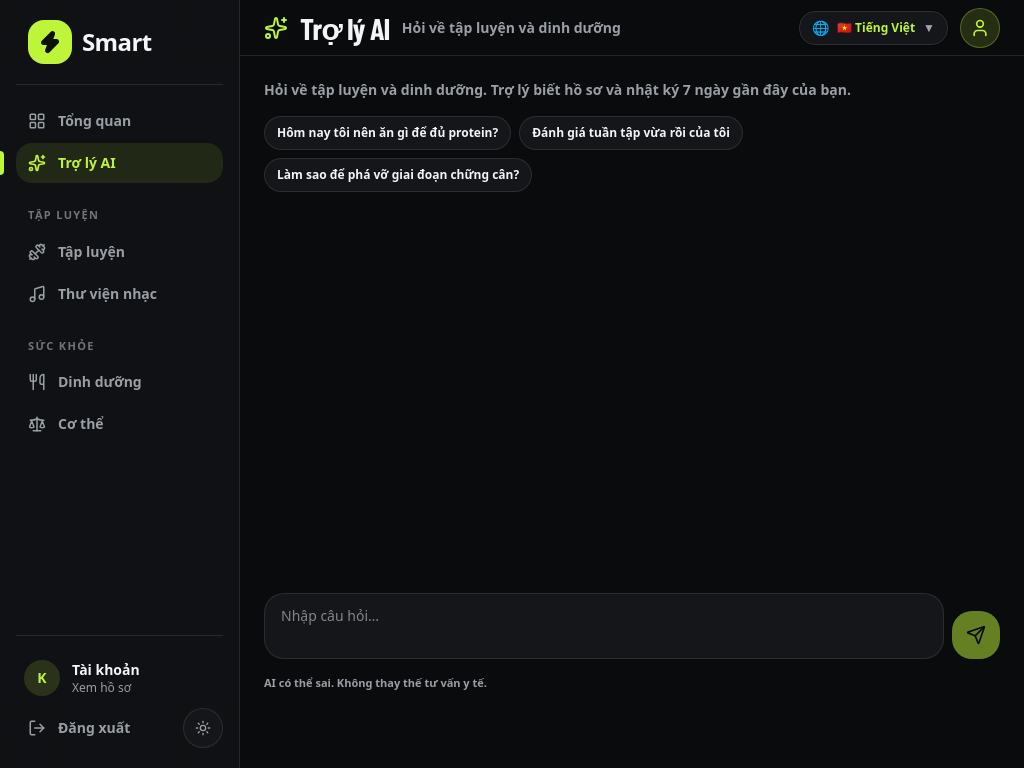
Coach page › sends earlier turns with the next question
The width and height of the screenshot is (1024, 768).
Type "q1" into the text box named "Tin nhắn". click: (604, 626)
box: [264,593,944,659]
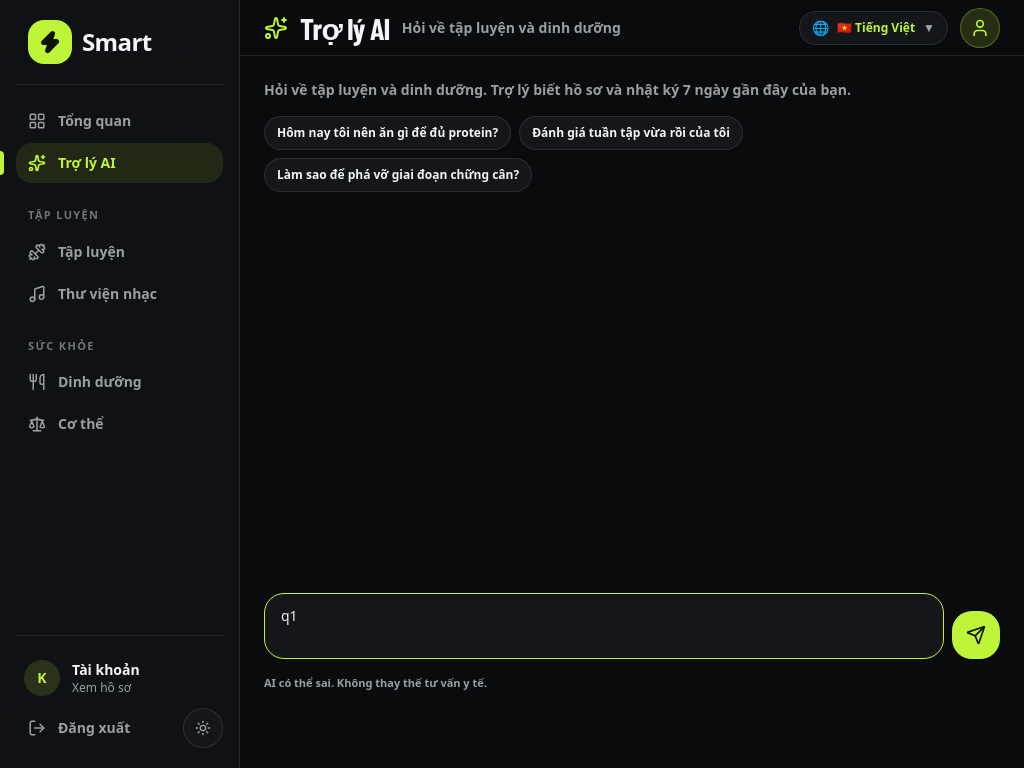
Click the button named "Gửi". click: (976, 635)
box: [952,611,1000,659]
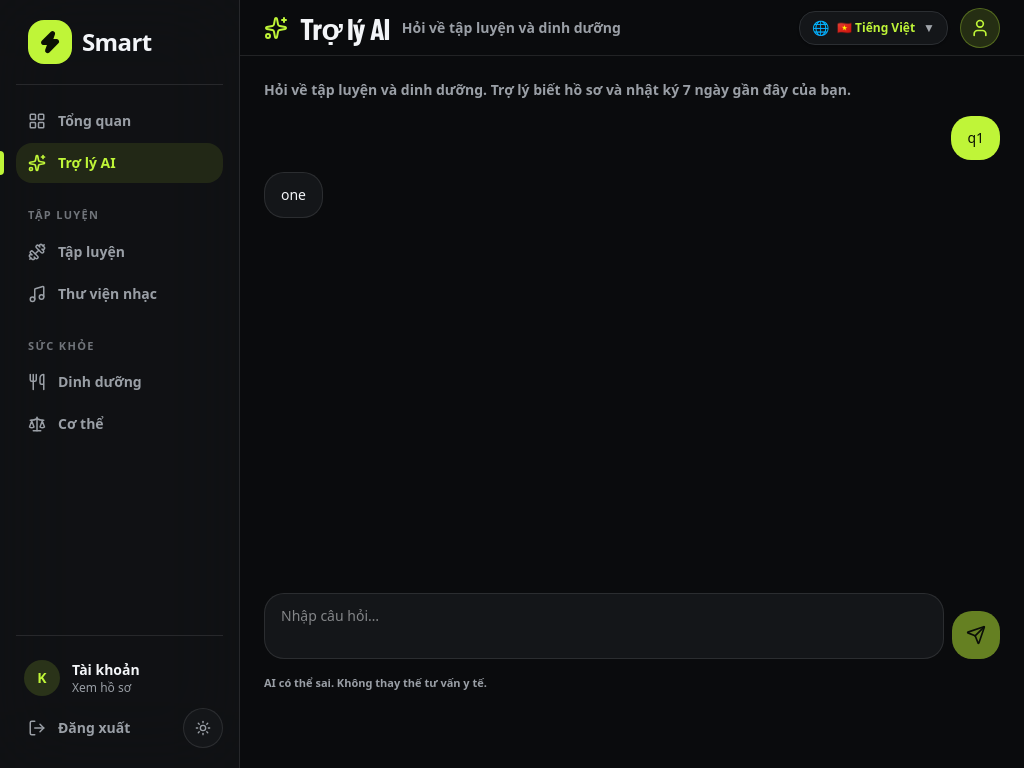
Result: the text "one" is shown at [264,172,323,218]
Type "q2" into the text box named "Tin nhắn". click: (604, 626)
box: [264,593,944,659]
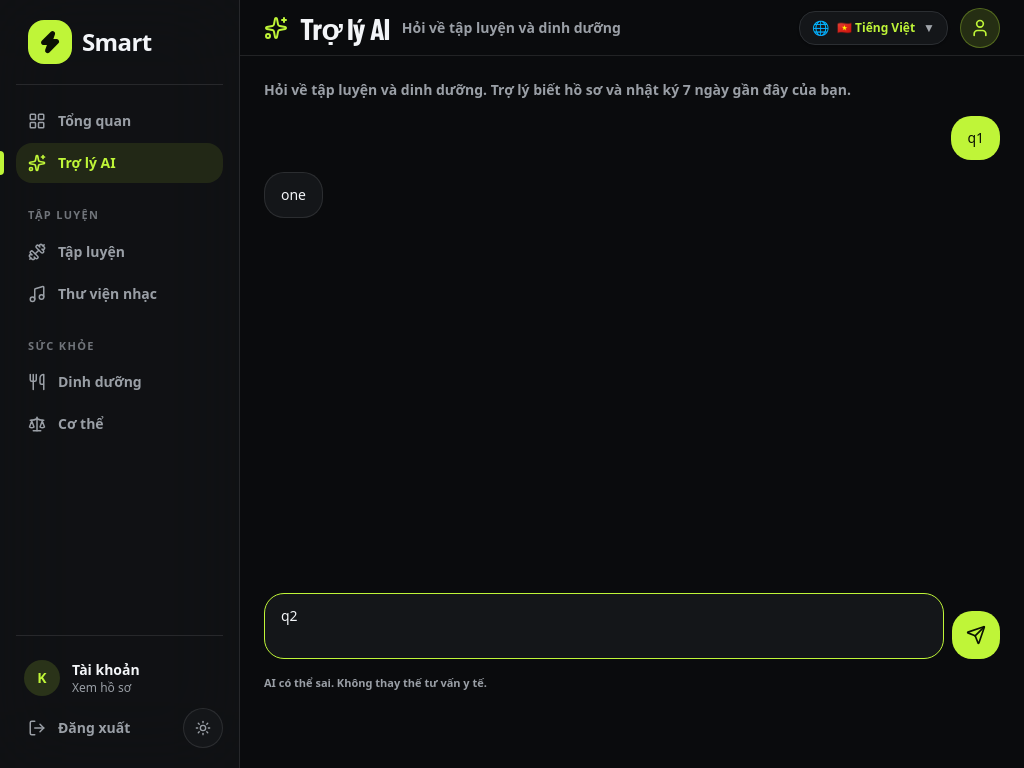
Click the button named "Gửi". click: (976, 635)
box: [952,611,1000,659]
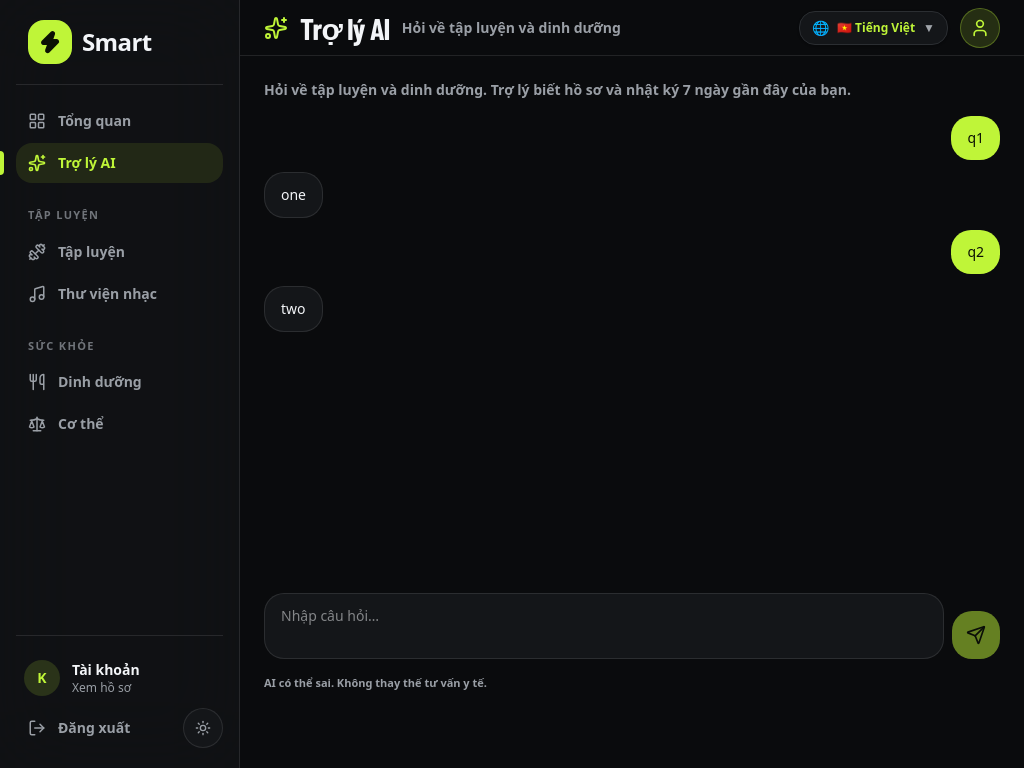
Result: the text "two" is shown at [264,286,322,332]
